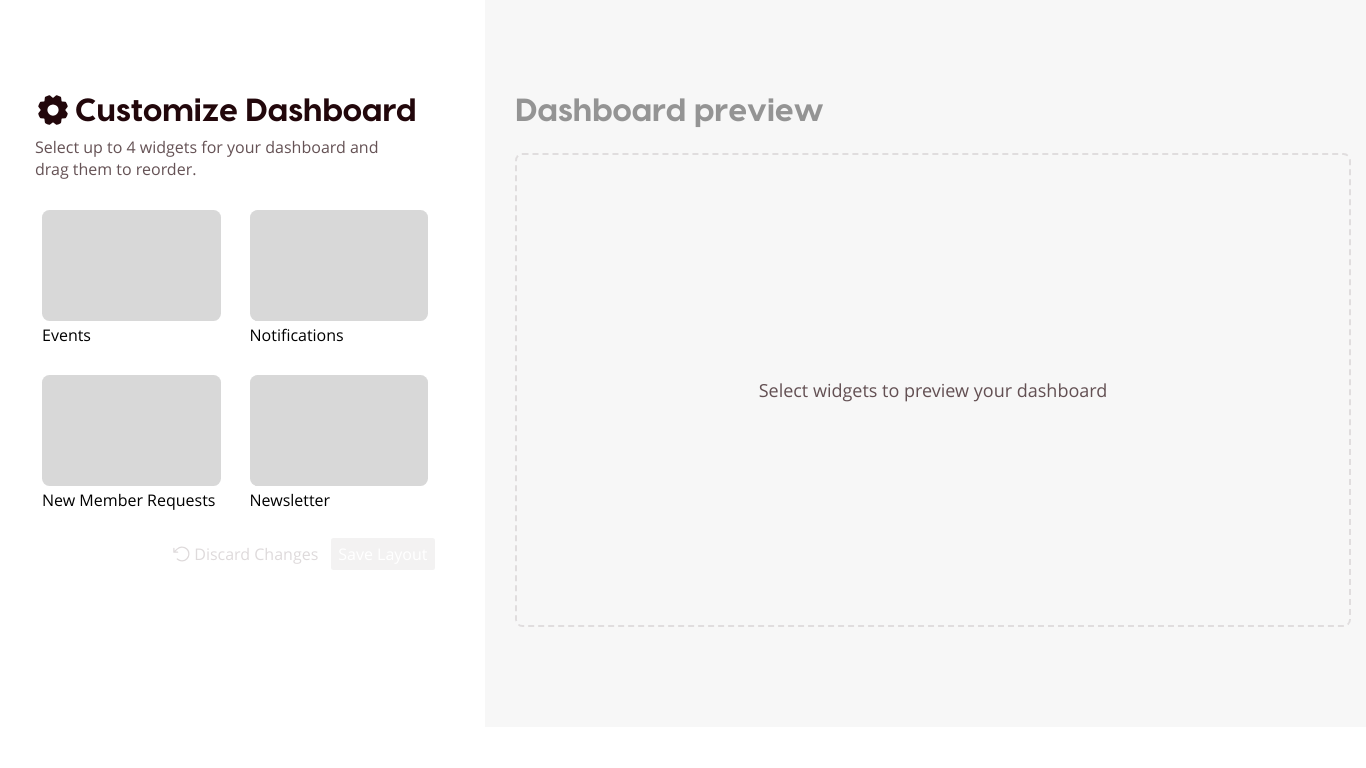
Test case: DashboardLayoutBuilder › toggles widget selection on click
Click the button "Events".
click(131, 278)  # box [35,203,228,353]
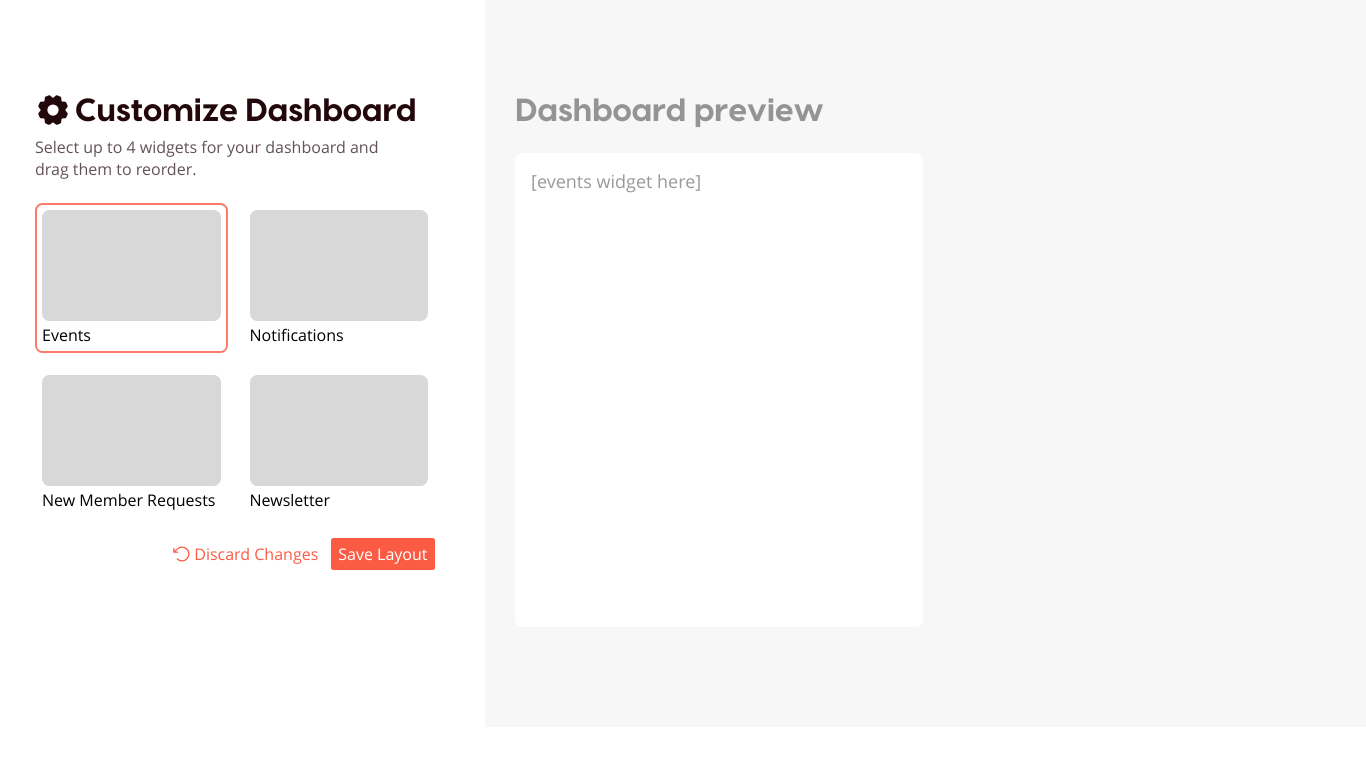
Now the text "[events widget here]" is shown, box [531,168,701,192]
